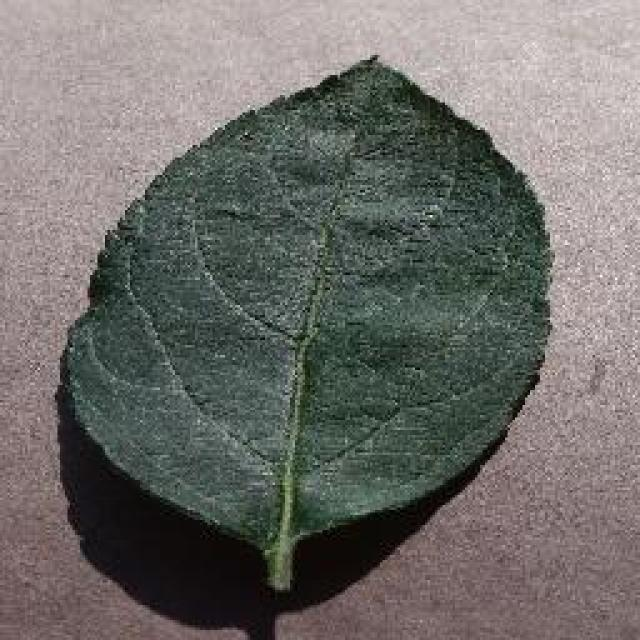apple scab disease: (57, 50, 555, 592)
